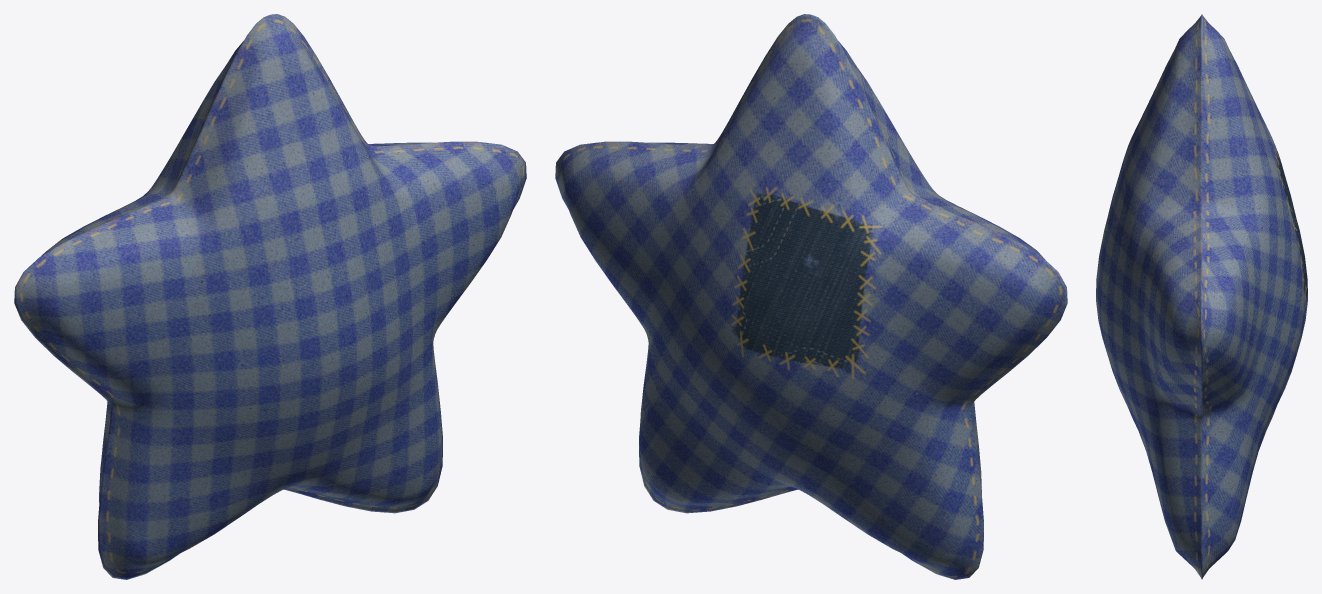
Rendered from star_soft_toy.glb.
3 views of the same model, side by side, from view 1: azimuth 30°, elevation 25°; view 2: azimuth 150°, elevation 25°; view 3: azimuth 270°, elevation 25° (orthographic). The views are drawn at different scales.
Parts seen in each view (by area): view 1: star; view 2: star; view 3: star.
Part boxes in pixels (x1,y1,x2,y2): star: (14,14,526,579); star: (555,14,1067,579); star: (1096,14,1307,579).
Bounding box in the file's own units: 334 × 330 × 127.
Materials: 1 (1 with a texture image).
